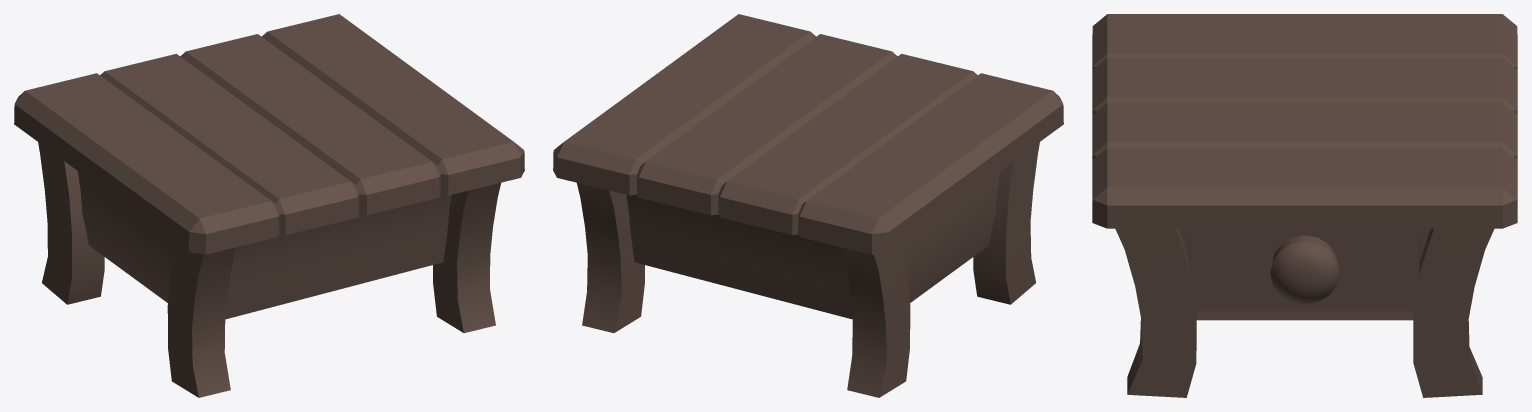
The model's file is Mesa_v3(outline).fbx.
3 renders of one model, left to right at view 1: azimuth 30°, elevation 25°; view 2: azimuth 150°, elevation 25°; view 3: azimuth 270°, elevation 25°, orthographic. The views are drawn at different scales.
Visible parts, largest first — view 1: MesaOutline; view 2: MesaOutline; view 3: MesaOutline.
Boxes of the visible parts, bbox=[...] form: MesaOutline: bbox=[14, 14, 524, 397]; MesaOutline: bbox=[553, 14, 1063, 397]; MesaOutline: bbox=[1092, 14, 1517, 397].
Size of the model in its own units: 2.13 by 1.12 by 2.01.
